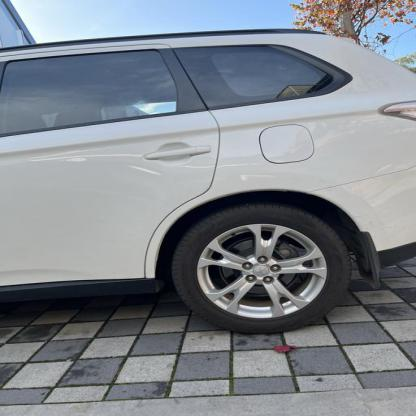Tire: (172, 204, 354, 335)
